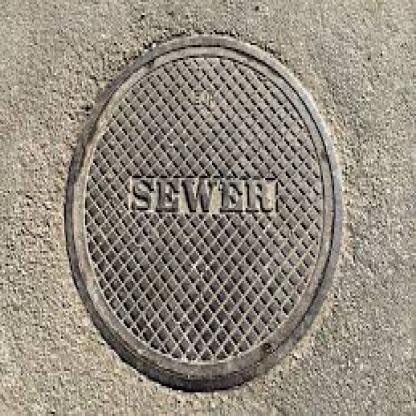closed manhole-not overflowing-: (63, 32, 347, 394)
